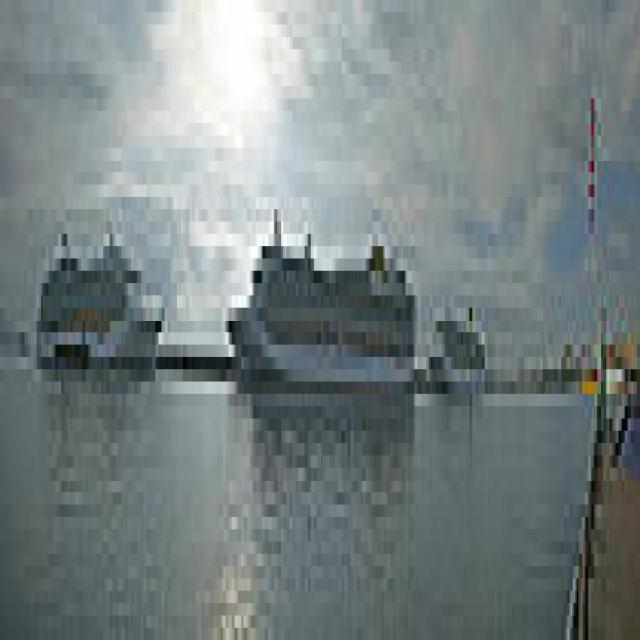cruise: (223, 186, 422, 432), (32, 198, 172, 407), (427, 272, 489, 419)
